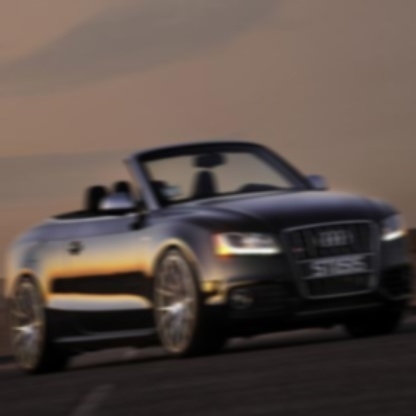Vehicle: (5, 140, 412, 377)
